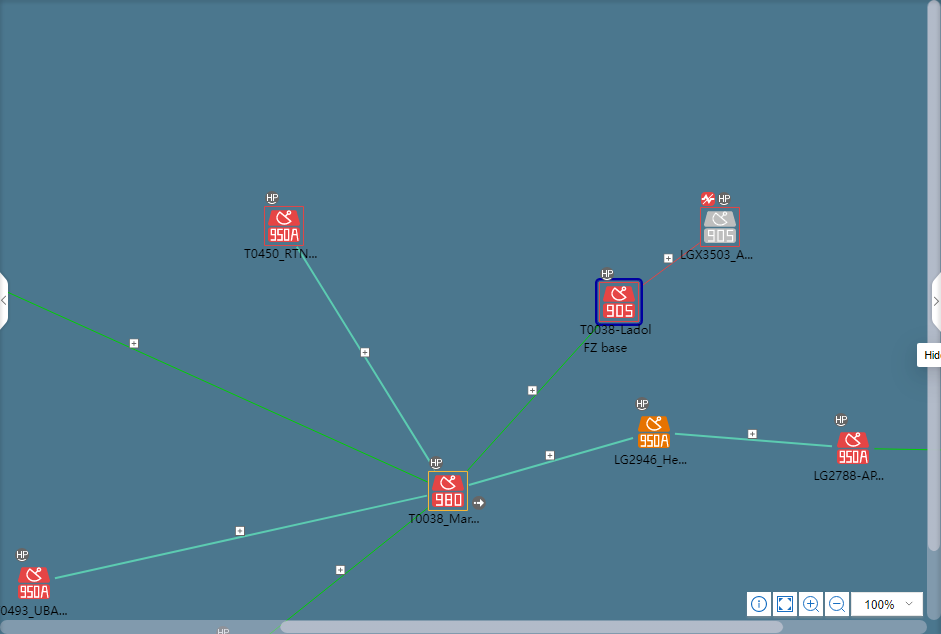Link_Blue: (53, 494, 428, 581), (294, 247, 431, 464), (469, 437, 634, 488), (675, 432, 833, 448)
Link_Green: (9, 290, 427, 485), (467, 326, 600, 472), (284, 510, 428, 620), (873, 445, 931, 452)
Link_Red: (643, 242, 700, 287)
RTN_Gray: (703, 210, 736, 244)
RTN_Orange: (638, 417, 669, 449)
RTN_Red: (430, 473, 466, 510), (266, 208, 301, 243), (599, 286, 634, 319), (837, 433, 869, 465), (18, 568, 49, 600)
